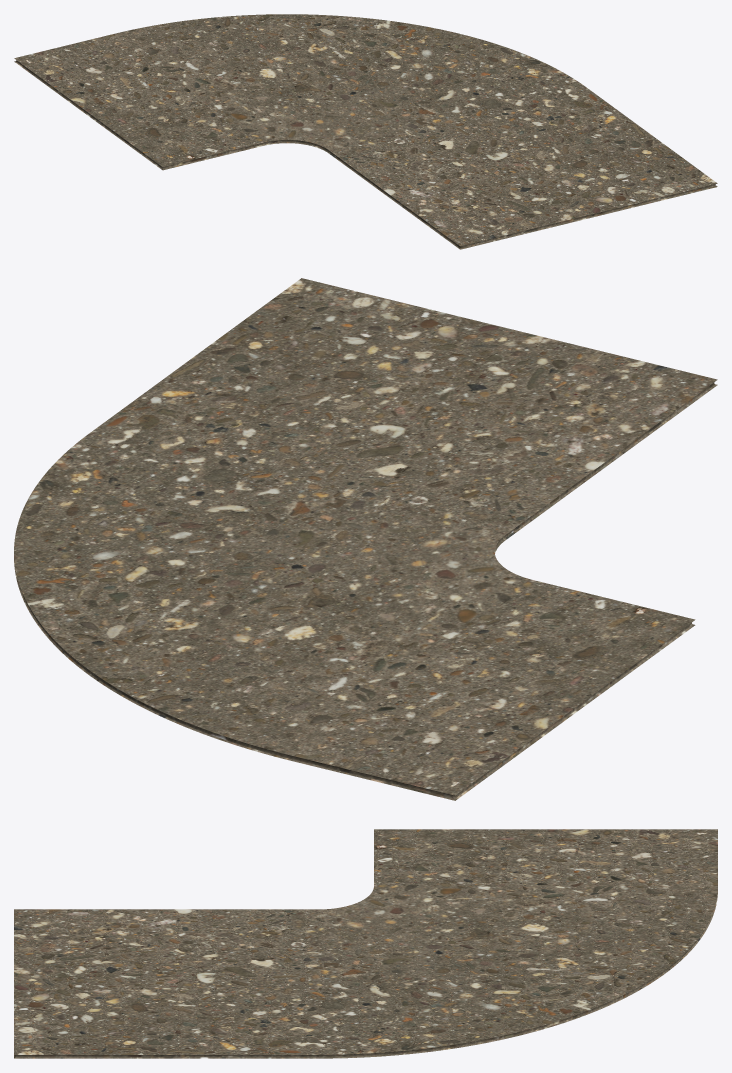
Rendered from Airfield_Taxiway_HQ23_Compact_LOD0.glb.
3 views of the same model, one above another, from view 1: azimuth 30°, elevation 25°; view 2: azimuth 150°, elevation 25°; view 3: azimuth 270°, elevation 25° (orthographic). The views are drawn at different scales.
Parts seen in each view (by area): view 1: Airfield Taxiway Apron-to-Runway LOD0; view 2: Airfield Taxiway Apron-to-Runway LOD0; view 3: Airfield Taxiway Apron-to-Runway LOD0.
Part boxes in pixels (left/top/right/bottom): Airfield Taxiway Apron-to-Runway LOD0: left=14, top=14, right=717, bottom=249; Airfield Taxiway Apron-to-Runway LOD0: left=14, top=278, right=717, bottom=800; Airfield Taxiway Apron-to-Runway LOD0: left=14, top=829, right=717, bottom=1058.
Size of the model in its own units: 28.16 by 0.22 by 37.16.
Materials: 1 (1 with a texture image).
